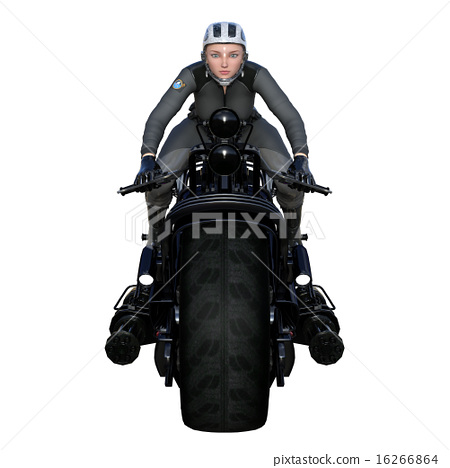helmet: (201, 20, 252, 54)
